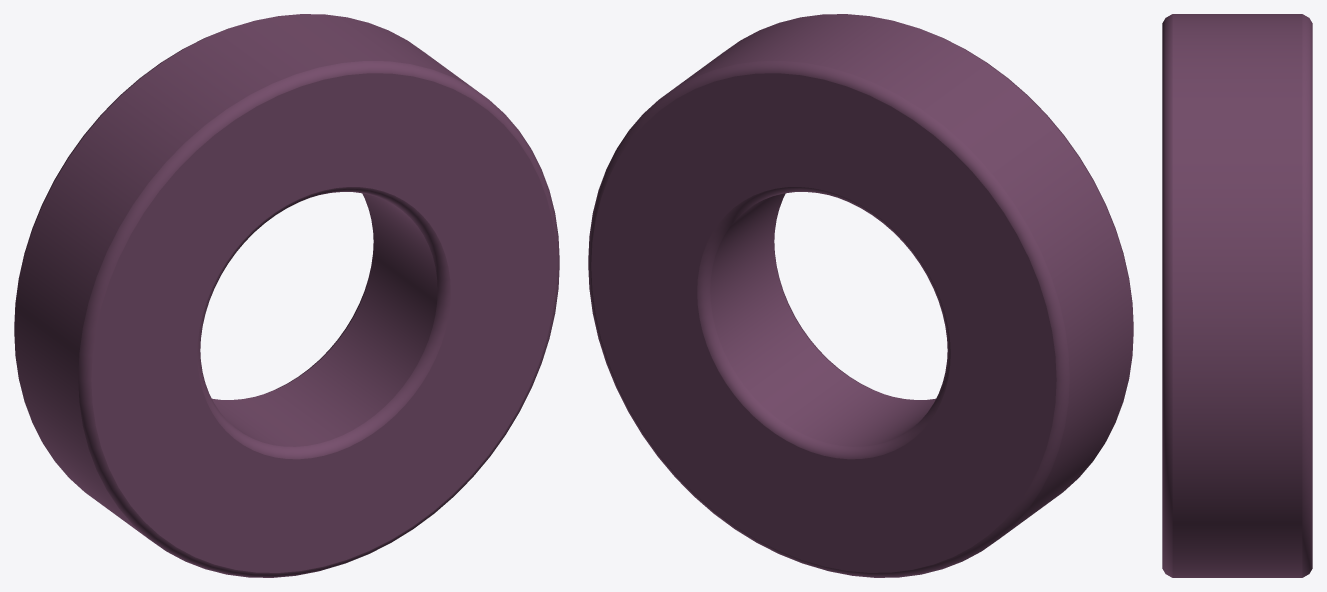
File: odoo-o.glb
3 views of the same model, side by side, from view 1: azimuth 30°, elevation 25°; view 2: azimuth 150°, elevation 25°; view 3: azimuth 270°, elevation 25° (orthographic).
Visible parts, largest first — view 1: OdooORoot; view 2: OdooORoot; view 3: OdooORoot.
Boxes of the visible parts, <box> form: OdooORoot: <box>14,14,559,577</box>; OdooORoot: <box>588,14,1133,577</box>; OdooORoot: <box>1162,14,1312,577</box>.
Bounding box in the file's own units: 0.6141 × 0.6141 × 0.1637.
